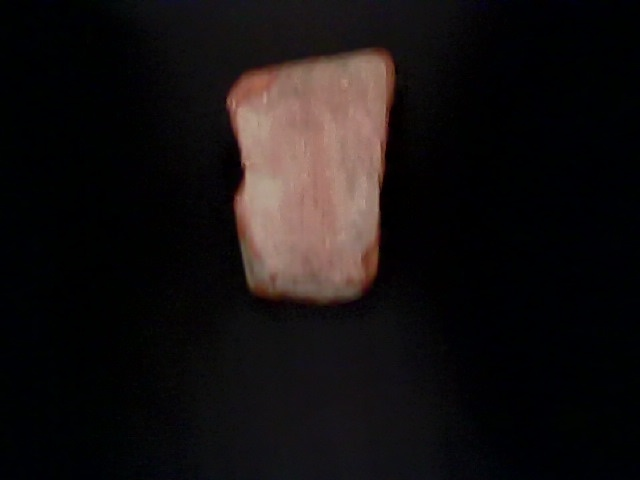KHSLJ: (5, 1, 255, 396)
